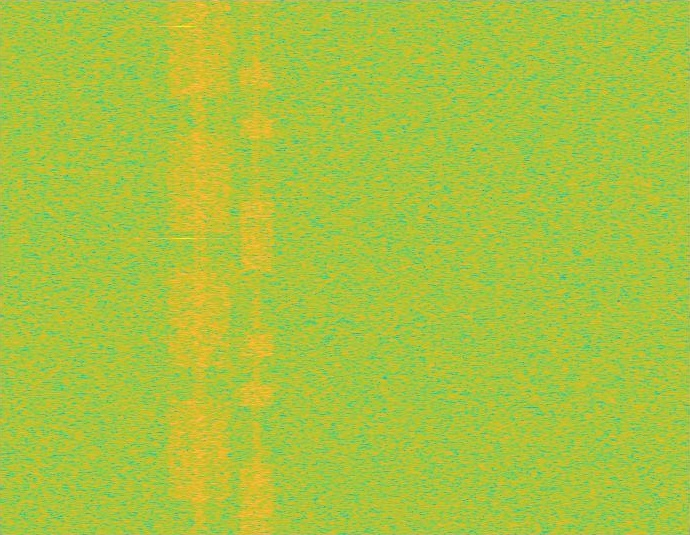5G: (165, 0, 234, 534)
DSSS: (192, 0, 207, 534), (253, 0, 261, 534)
LTE: (239, 0, 274, 534)
Radar: (177, 0, 191, 534)
